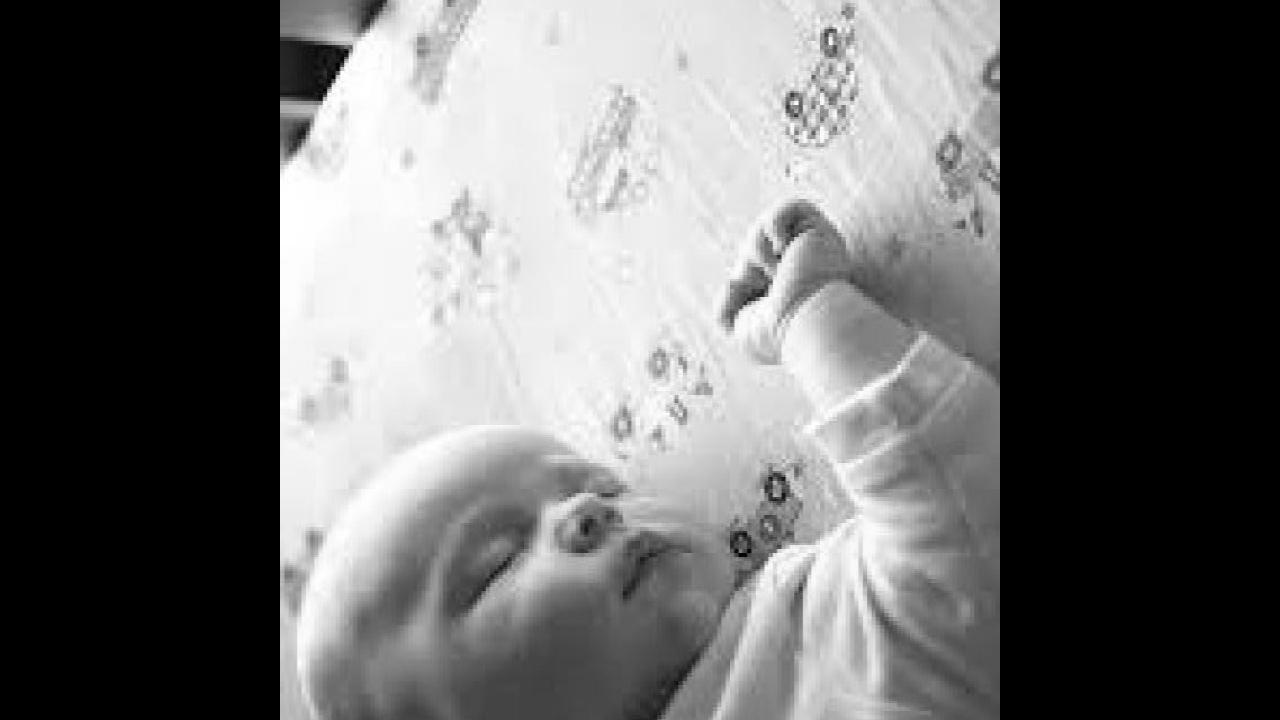hand: (716, 190, 854, 366)
